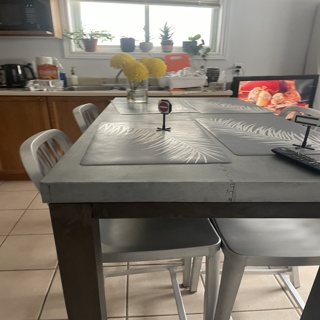sign_noentry: (157, 102, 168, 111)
